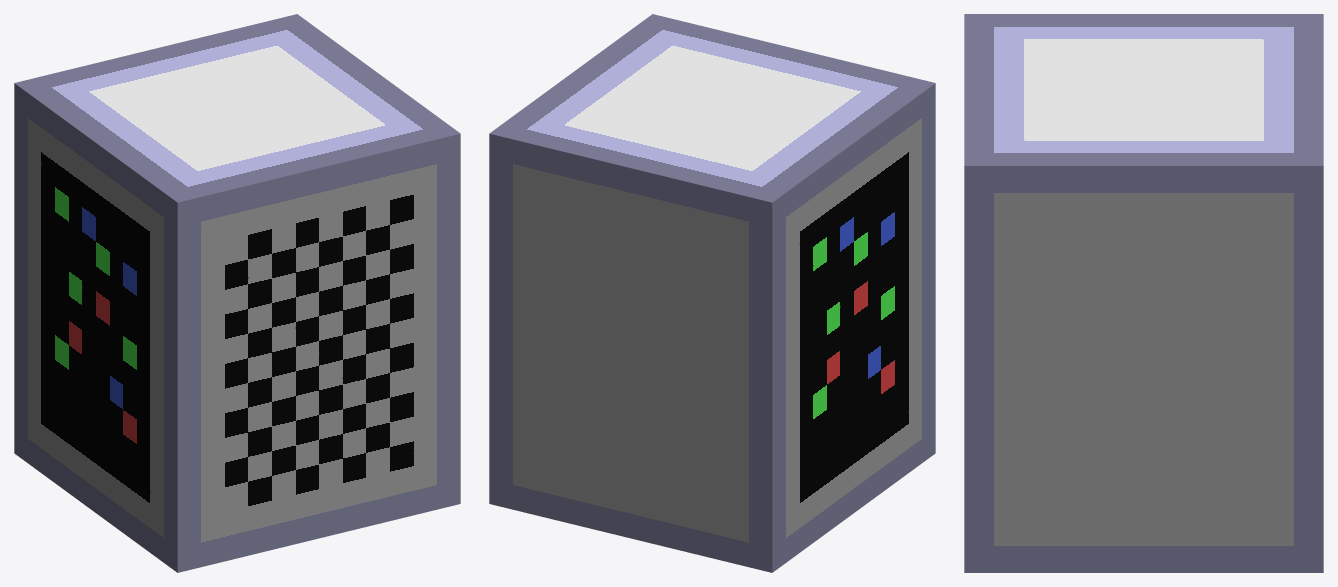
The model's file is hitek_tile_044.gltf.
3 renders of one model, left to right at view 1: azimuth 30°, elevation 25°; view 2: azimuth 150°, elevation 25°; view 3: azimuth 270°, elevation 25°, orthographic. The views are drawn at different scales.
Visible parts, largest first — view 1: hitek_tile_044; view 2: hitek_tile_044; view 3: hitek_tile_044.
Boxes of the visible parts, bbox=[...] form: hitek_tile_044: bbox=[14, 14, 460, 572]; hitek_tile_044: bbox=[489, 14, 935, 572]; hitek_tile_044: bbox=[964, 14, 1323, 572].
Bounding box in the file's own units: 16 × 20 × 16.
1 material, 1 textured.
